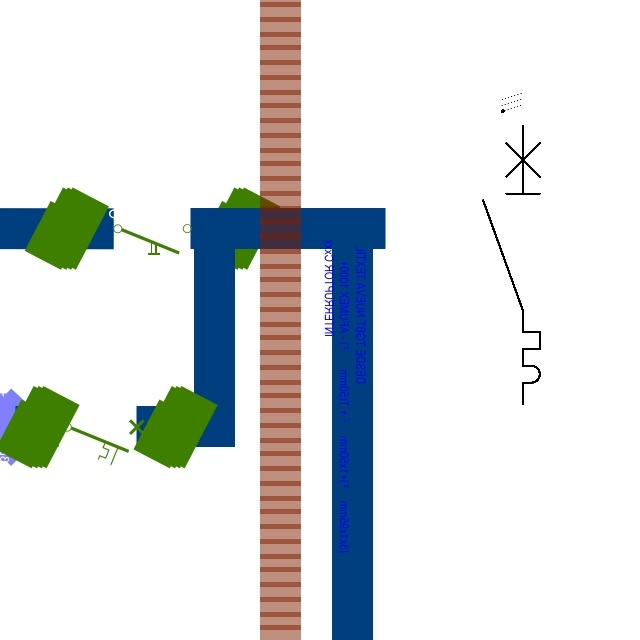interruptor_termomagnetico: (476, 119, 547, 411)
